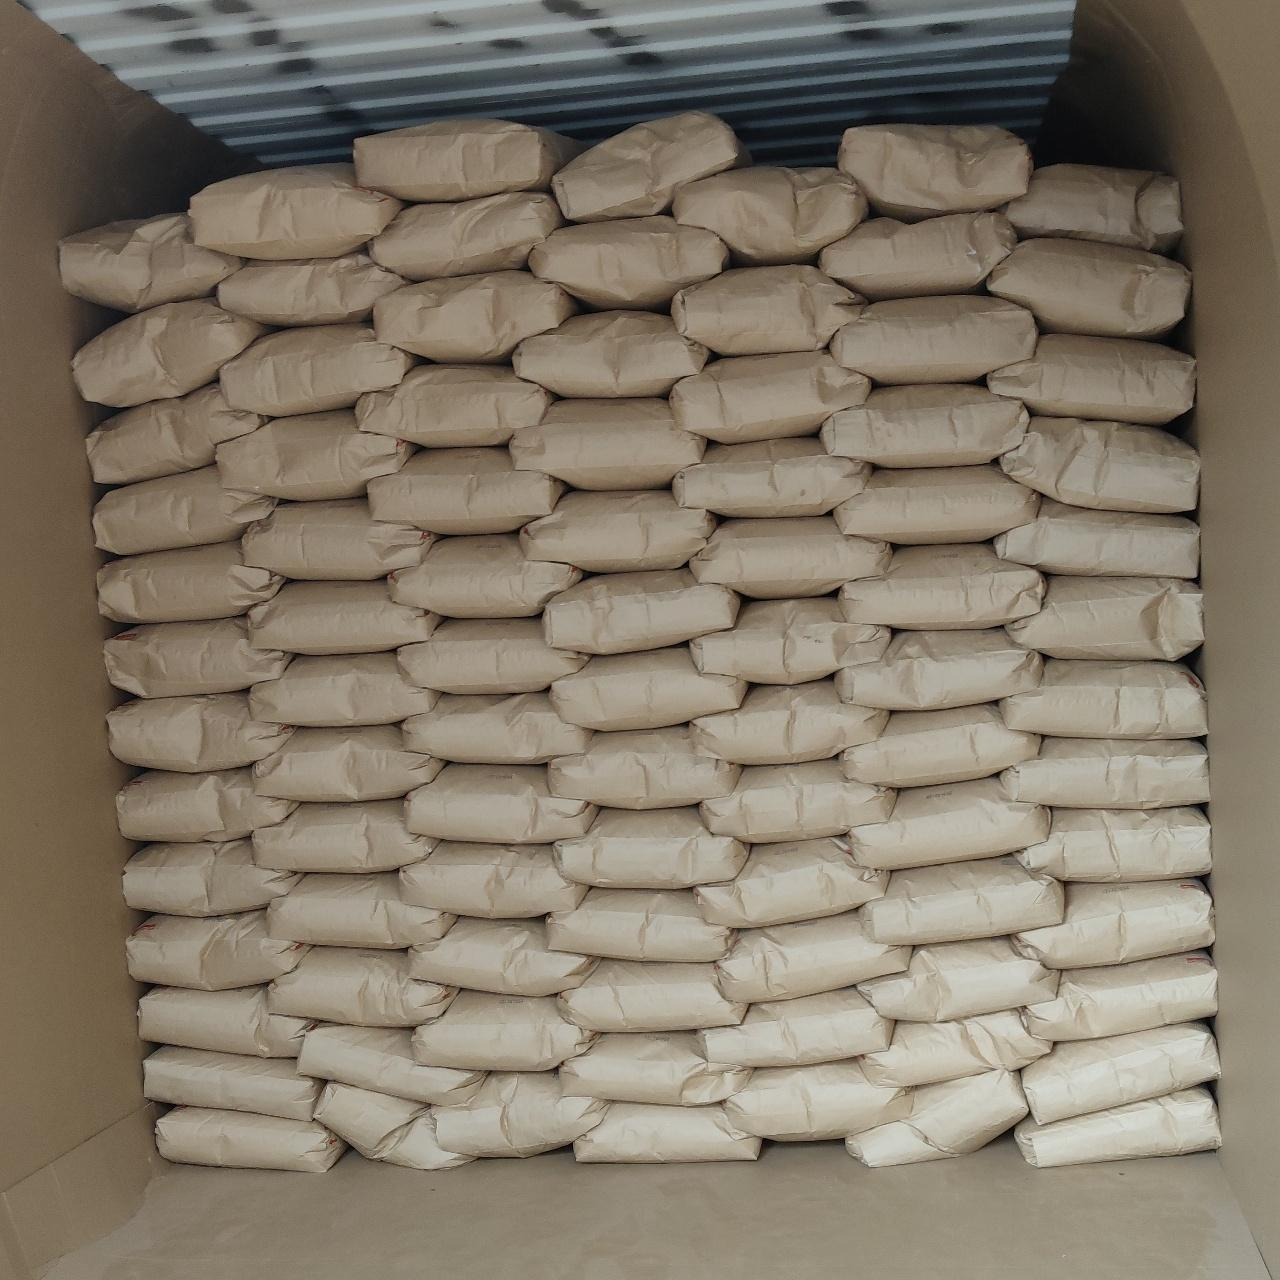sack: (72, 297, 271, 407), (552, 113, 749, 222), (188, 164, 401, 259), (987, 238, 1190, 338), (1022, 1022, 1219, 1124), (1000, 417, 1199, 513), (373, 270, 579, 362), (986, 334, 1194, 425), (672, 166, 867, 264), (527, 216, 729, 309), (215, 409, 418, 501), (353, 118, 577, 202), (838, 125, 1032, 222), (830, 295, 1037, 384), (670, 350, 870, 443), (847, 777, 1049, 869), (220, 324, 418, 416), (60, 213, 245, 312), (859, 856, 1063, 944), (670, 265, 869, 355), (87, 383, 266, 483), (509, 399, 706, 489), (1014, 879, 1213, 968), (695, 836, 888, 927), (846, 1070, 1028, 1167), (717, 910, 911, 1000), (368, 447, 566, 535), (1022, 952, 1217, 1041), (840, 545, 1046, 629), (512, 311, 710, 397), (692, 598, 890, 685), (858, 937, 1058, 1022), (821, 384, 1029, 467), (817, 213, 1016, 299), (690, 679, 888, 764), (369, 193, 564, 280), (836, 629, 1043, 710), (545, 568, 740, 654), (1000, 659, 1207, 738), (1006, 576, 1201, 660), (994, 497, 1198, 578), (840, 704, 1041, 787), (689, 517, 892, 598), (93, 465, 277, 554), (551, 647, 747, 730), (1014, 1089, 1220, 1167), (700, 760, 896, 842), (388, 535, 583, 617), (356, 365, 553, 445), (549, 726, 740, 809), (554, 806, 748, 888), (1002, 164, 1182, 252), (520, 491, 715, 572), (835, 467, 1041, 543), (672, 437, 871, 516), (697, 987, 893, 1067), (241, 499, 436, 579), (721, 1060, 912, 1139), (267, 947, 457, 1027), (406, 764, 598, 843), (105, 617, 292, 697), (297, 1024, 485, 1104), (431, 1073, 610, 1157), (411, 990, 597, 1071), (98, 542, 282, 622), (107, 693, 293, 772), (408, 917, 597, 995), (860, 1009, 1051, 1087), (999, 737, 1208, 808), (397, 618, 588, 694), (127, 910, 306, 990), (253, 726, 445, 801), (1017, 806, 1210, 881), (268, 872, 455, 948), (216, 252, 407, 326), (560, 1032, 751, 1105), (400, 842, 587, 917), (559, 958, 749, 1032), (248, 581, 441, 654), (250, 652, 438, 726), (123, 837, 298, 915), (251, 799, 438, 872), (547, 887, 731, 961), (117, 767, 298, 842), (143, 1046, 324, 1121), (401, 693, 593, 762), (137, 985, 316, 1057), (319, 1083, 471, 1167), (157, 1107, 346, 1172), (574, 1103, 760, 1160)
